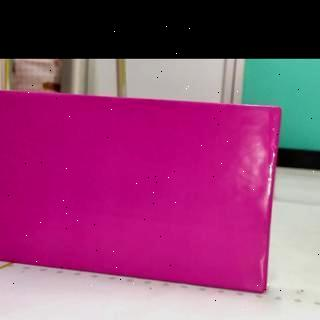xparking: (2, 92, 283, 294)
